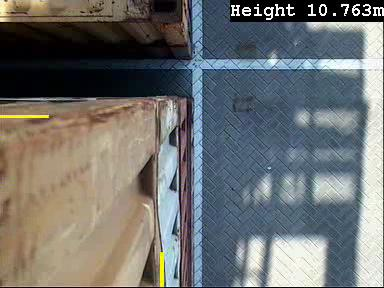groundmarker_2: (173, 182, 236, 223), (200, 8, 232, 68)
